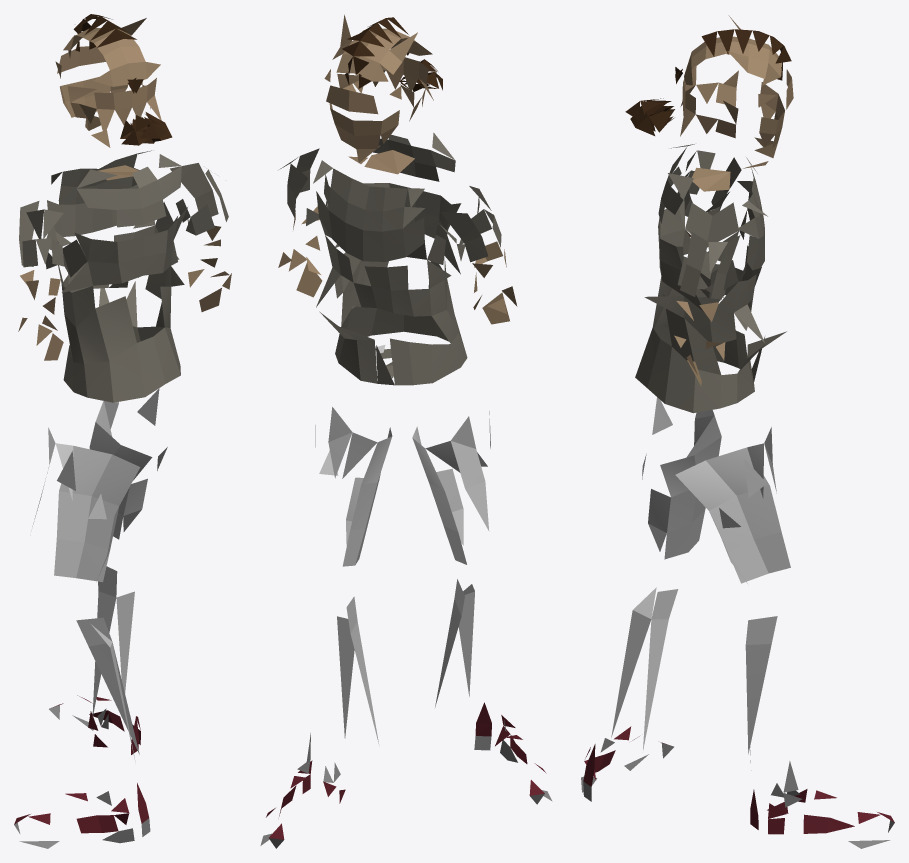
Rendered from personfar_9_idle.fbx.
3 renders of one model, left to right at view 1: azimuth 30°, elevation 25°; view 2: azimuth 150°, elevation 25°; view 3: azimuth 270°, elevation 25°, orthographic. The views are drawn at different scales.
Visible parts, largest first — view 1: Casual2_Feet; view 2: Casual2_Feet; view 3: Casual2_Feet.
Boxes of the visible parts, left/top/right/bottom form: Casual2_Feet: left=14, top=14, right=231, bottom=848; Casual2_Feet: left=260, top=14, right=552, bottom=848; Casual2_Feet: left=581, top=15, right=894, bottom=848.
Bounding box in the file's own units: 0.3277 × 0.9932 × 0.3559.
